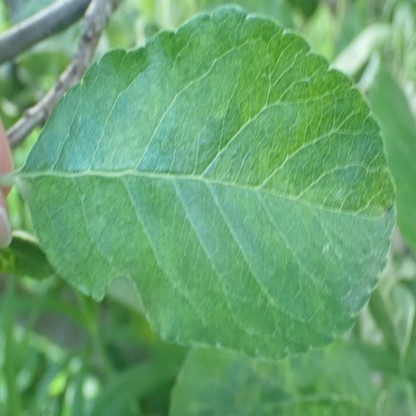powdery_mildew: (342, 208, 396, 312)
